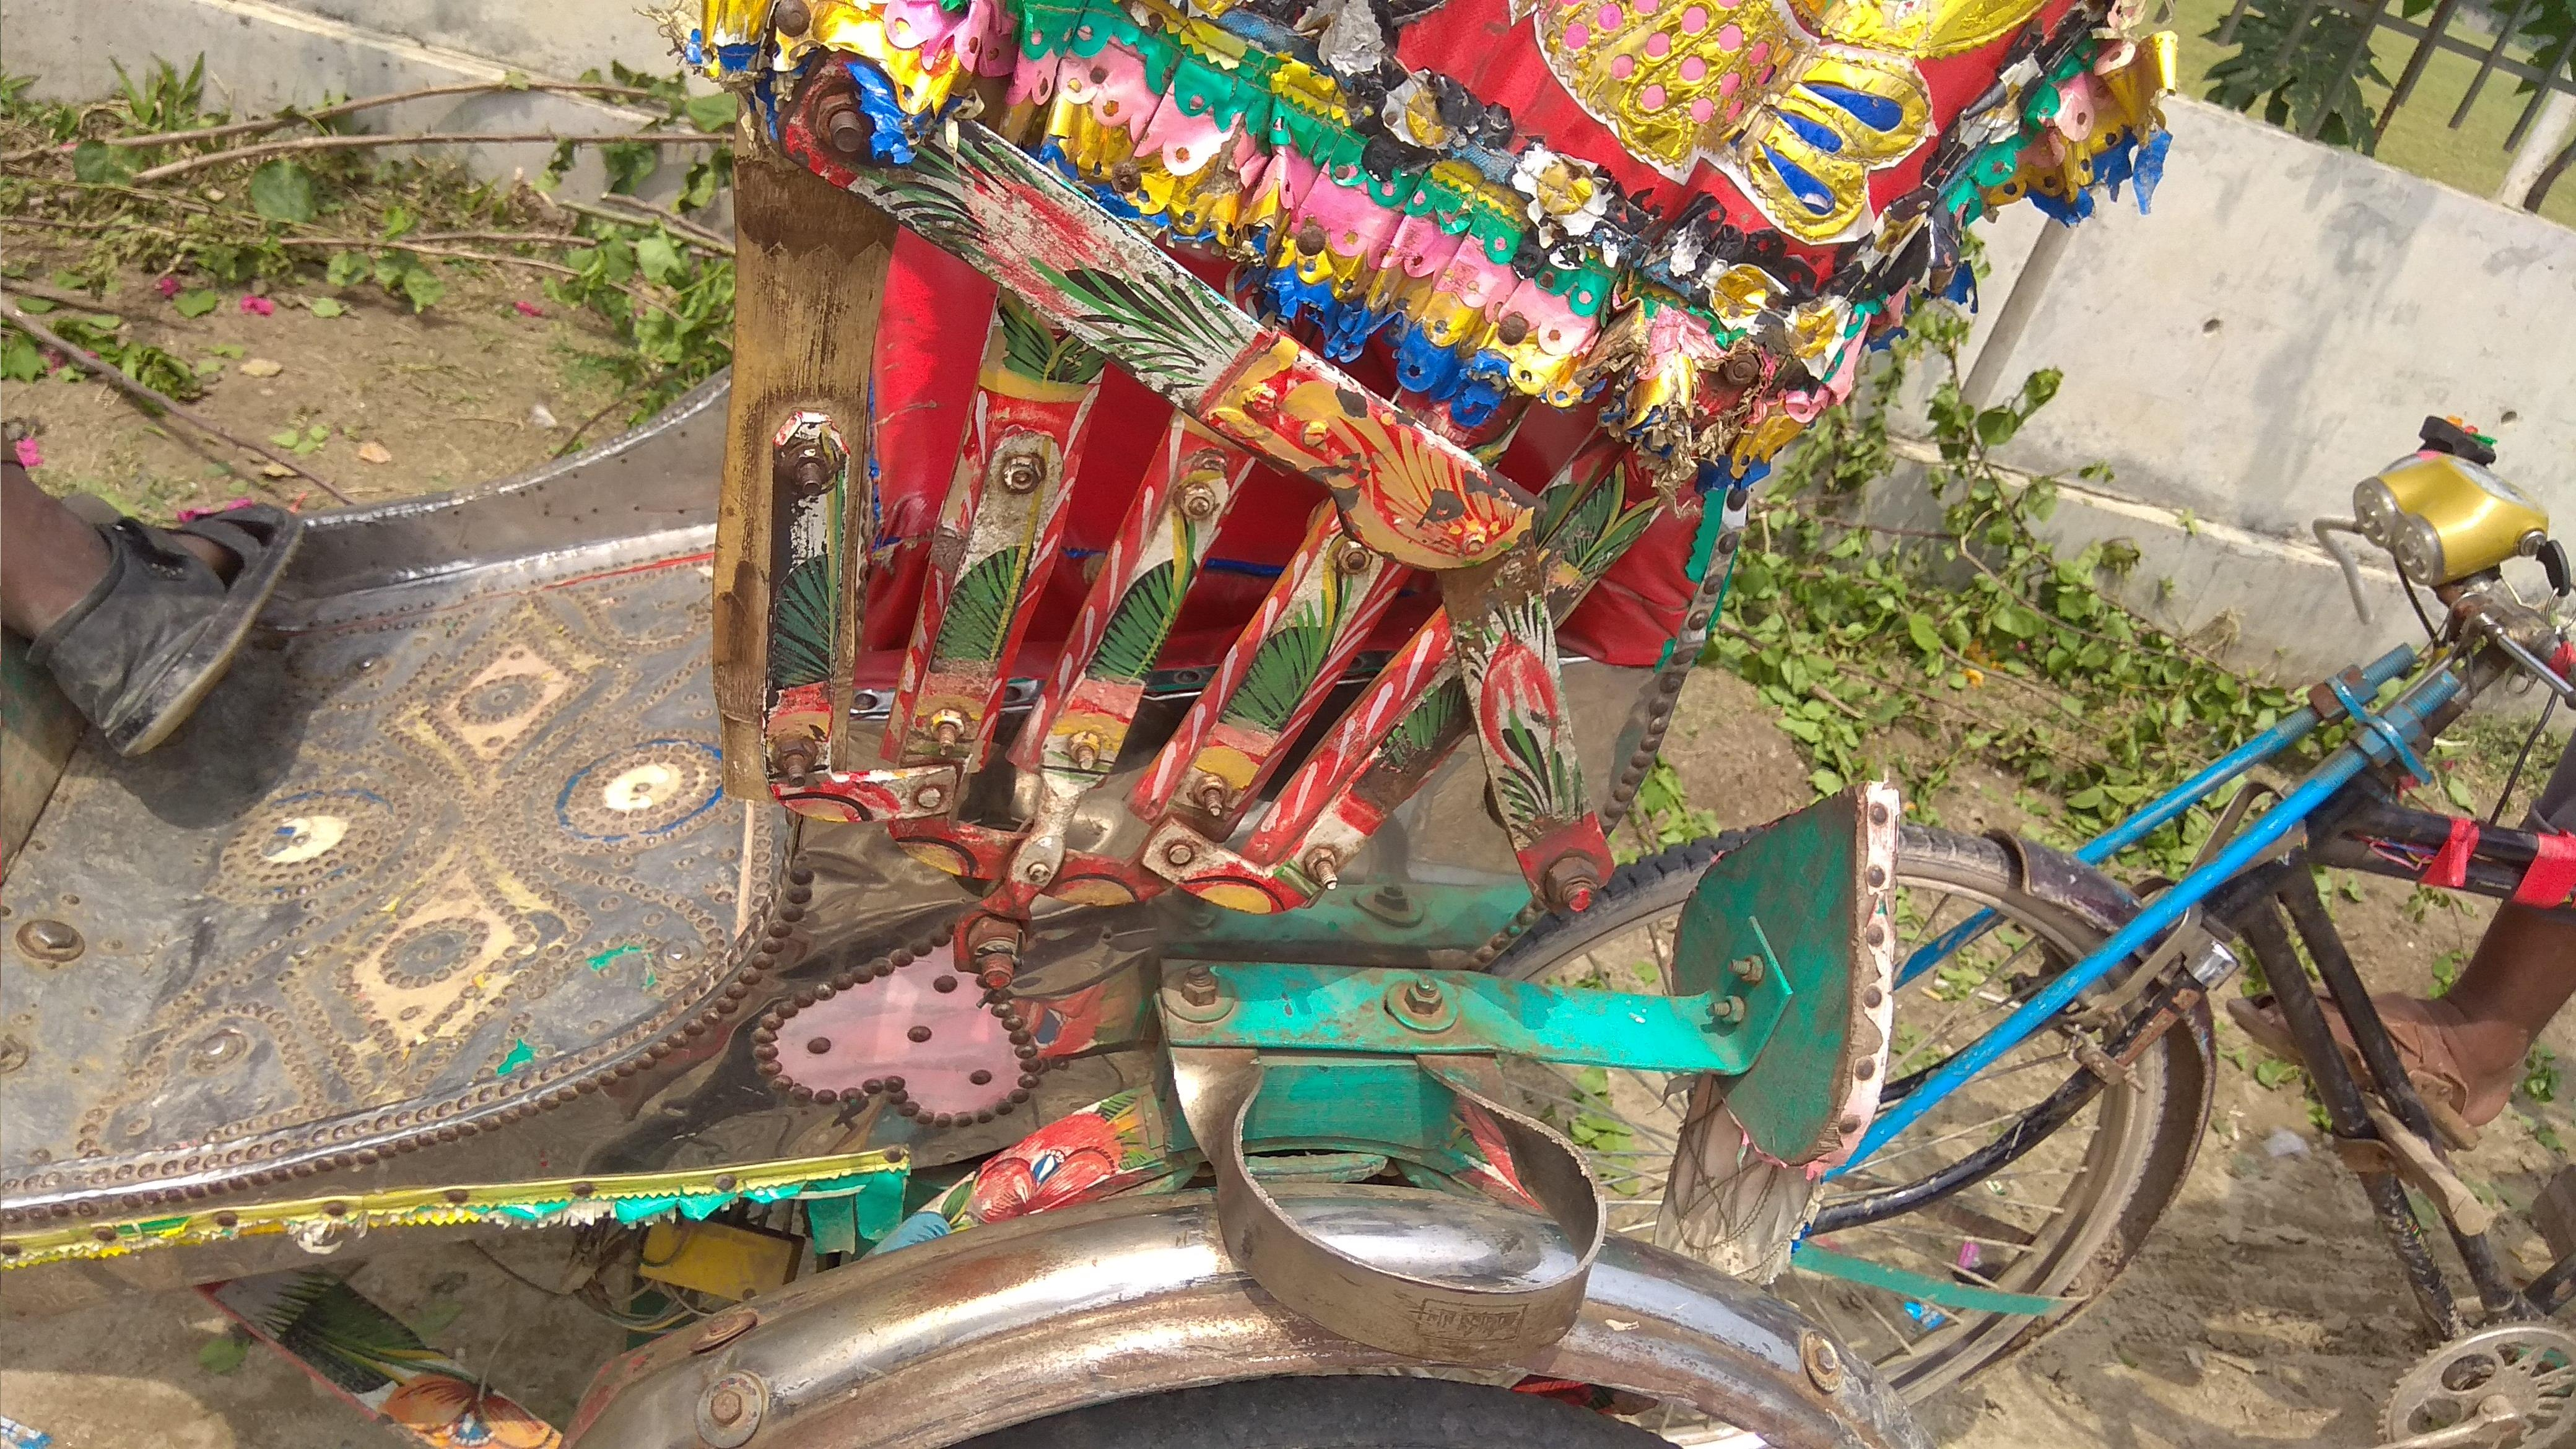Rickshaw: (11, 2, 2169, 1440)
